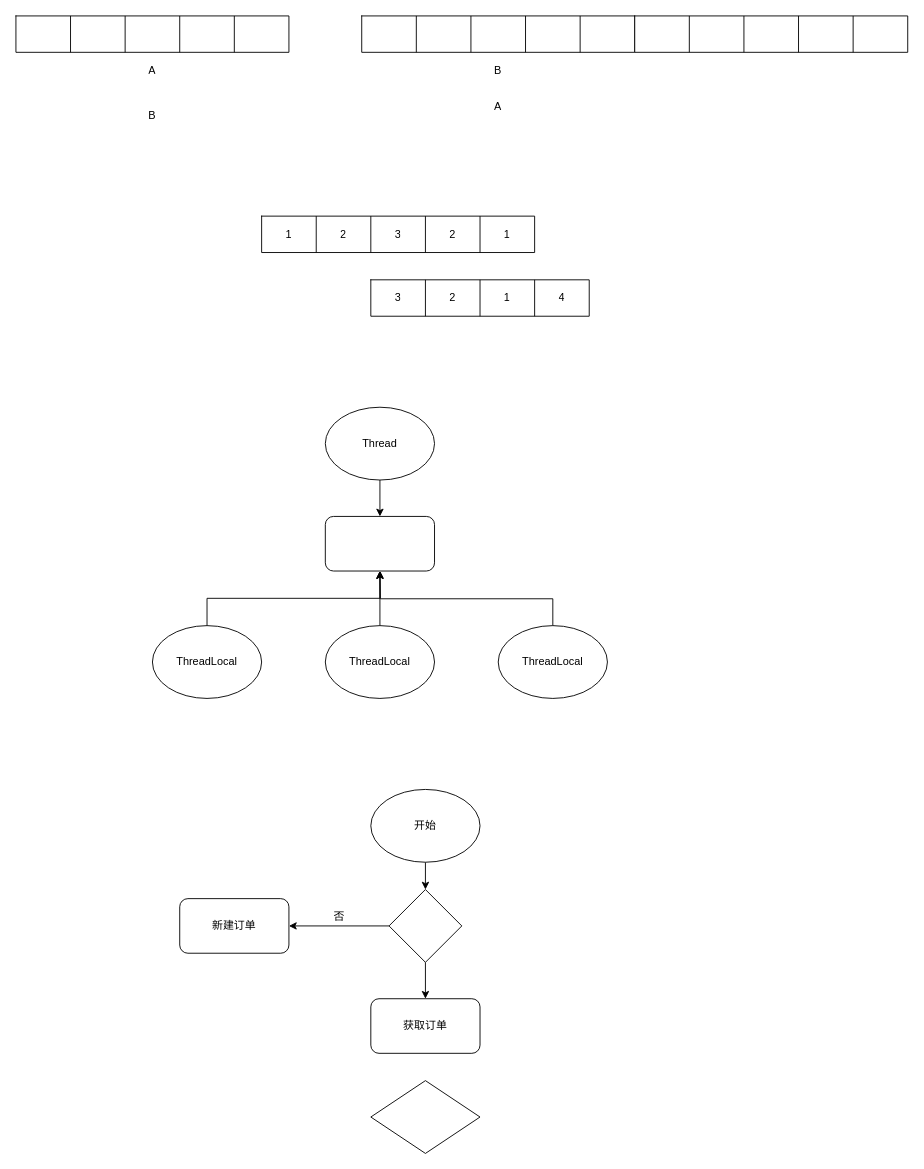
Some shapes in this 924 by 1169 pixel diagram are drawn without their labels. The shapes that lost their labels are listed below. From the top down, each one's centre as x and y in pixels, then its label:
At [379,543]: "ThreadLocalMap".
At [425,925]: "订单是否存在".
At [425,1116]: "各种条件判断 (金额/状态)".
